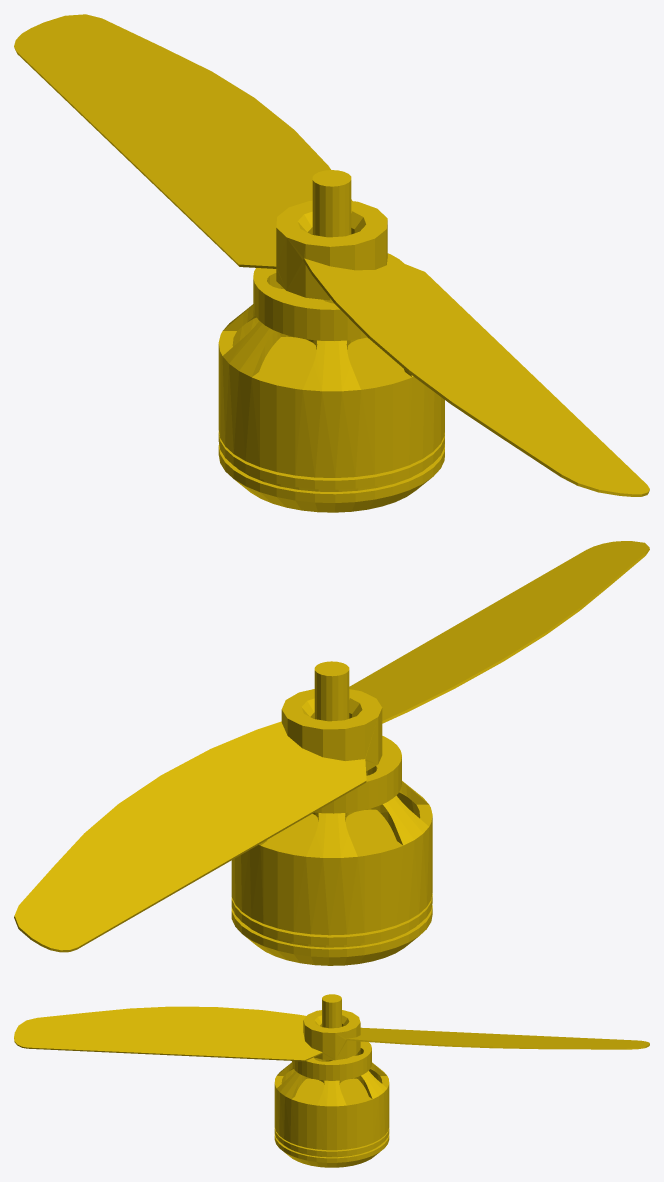
The model's file is motor4urss.dae.
3 renders of one model, top to bottom at view 1: azimuth 30°, elevation 25°; view 2: azimuth 150°, elevation 25°; view 3: azimuth 270°, elevation 25°, orthographic. The views are drawn at different scales.
Visible parts, largest first — view 1: motor4; view 2: motor4; view 3: motor4.
Part boxes in pixels (x1,y1,x2,y2): motor4: [14, 14, 649, 512]; motor4: [14, 541, 649, 965]; motor4: [14, 994, 649, 1167].
Size of the model in its own units: 0.023 by 0.1274 by 0.0348.
